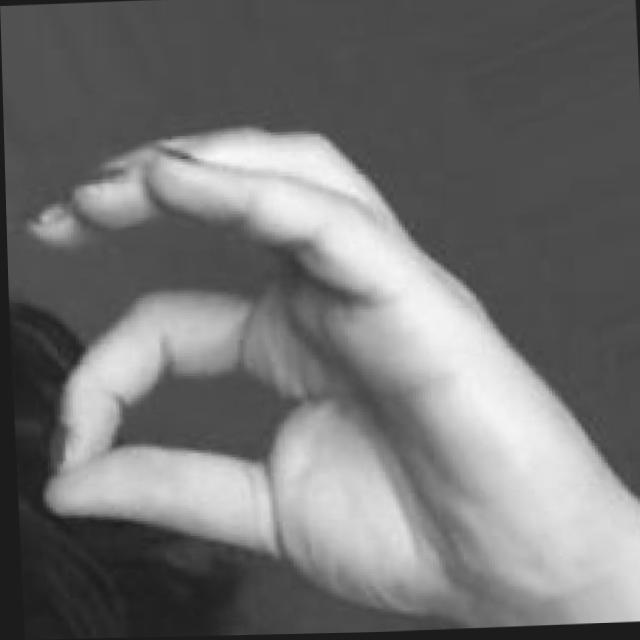O: (15, 99, 554, 640)
